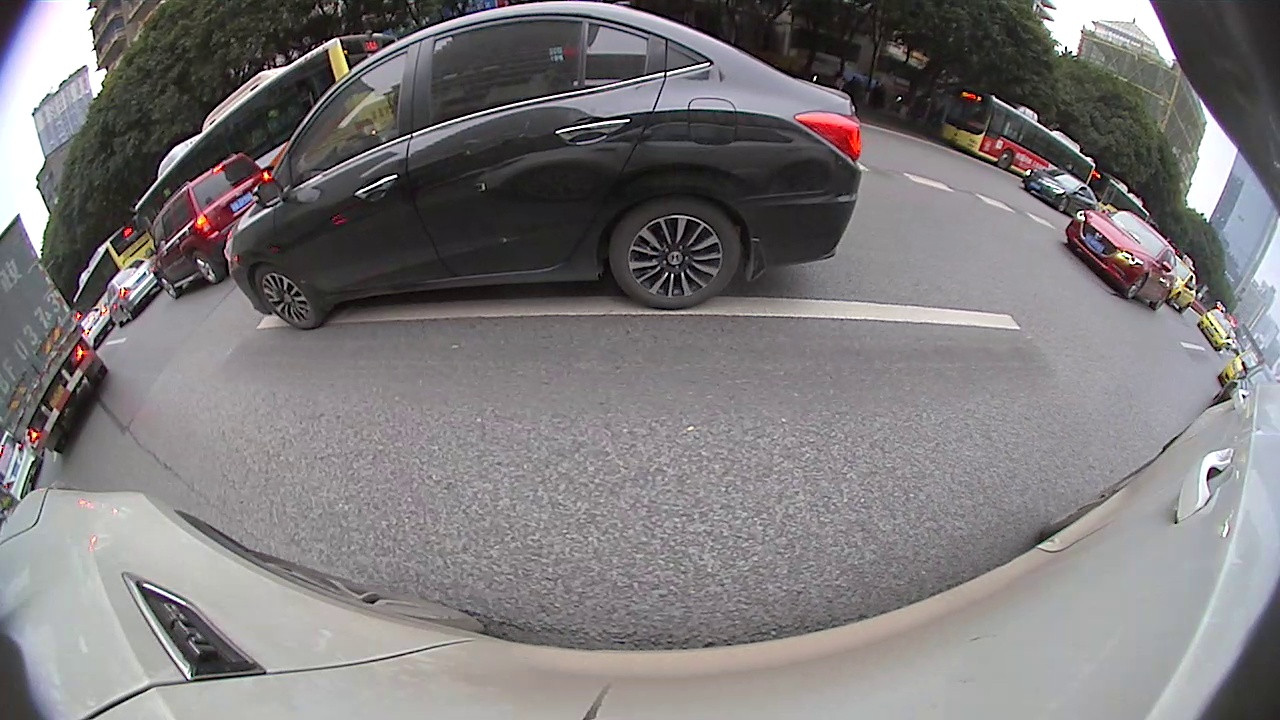bus: (133, 31, 391, 239), (943, 87, 1093, 183), (72, 218, 157, 323), (1088, 172, 1154, 222)
car: (226, 2, 866, 328), (149, 151, 273, 302), (1064, 206, 1176, 311), (100, 256, 162, 329), (1020, 166, 1099, 209), (3, 431, 36, 502), (1166, 259, 1196, 311), (1202, 307, 1236, 347)
front: (254, 266, 329, 329), (1121, 275, 1146, 300), (160, 276, 184, 300), (997, 149, 1013, 169), (1056, 195, 1069, 212)
rear: (609, 198, 741, 309), (192, 255, 224, 285), (122, 306, 136, 321)
truck: (1, 214, 107, 454)
